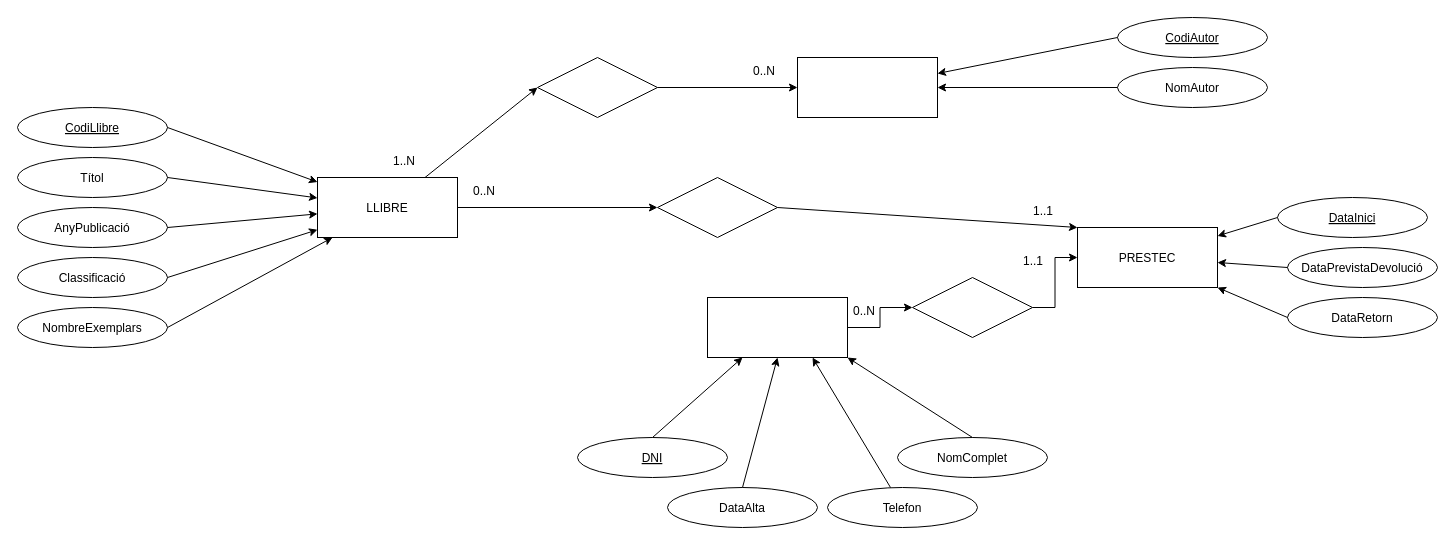
Image size: 1455x545. Some labels were removed from this diagram. Here are the shapes that lost their labels. From the top down, the centre of each, then its label:
At pixel 597 87: "ESCRIU".
At pixel 867 87: "AUTOR".
At pixel 717 207: "INCLOU".
At pixel 777 327: "USUARI".
At pixel 972 307: "FA".
